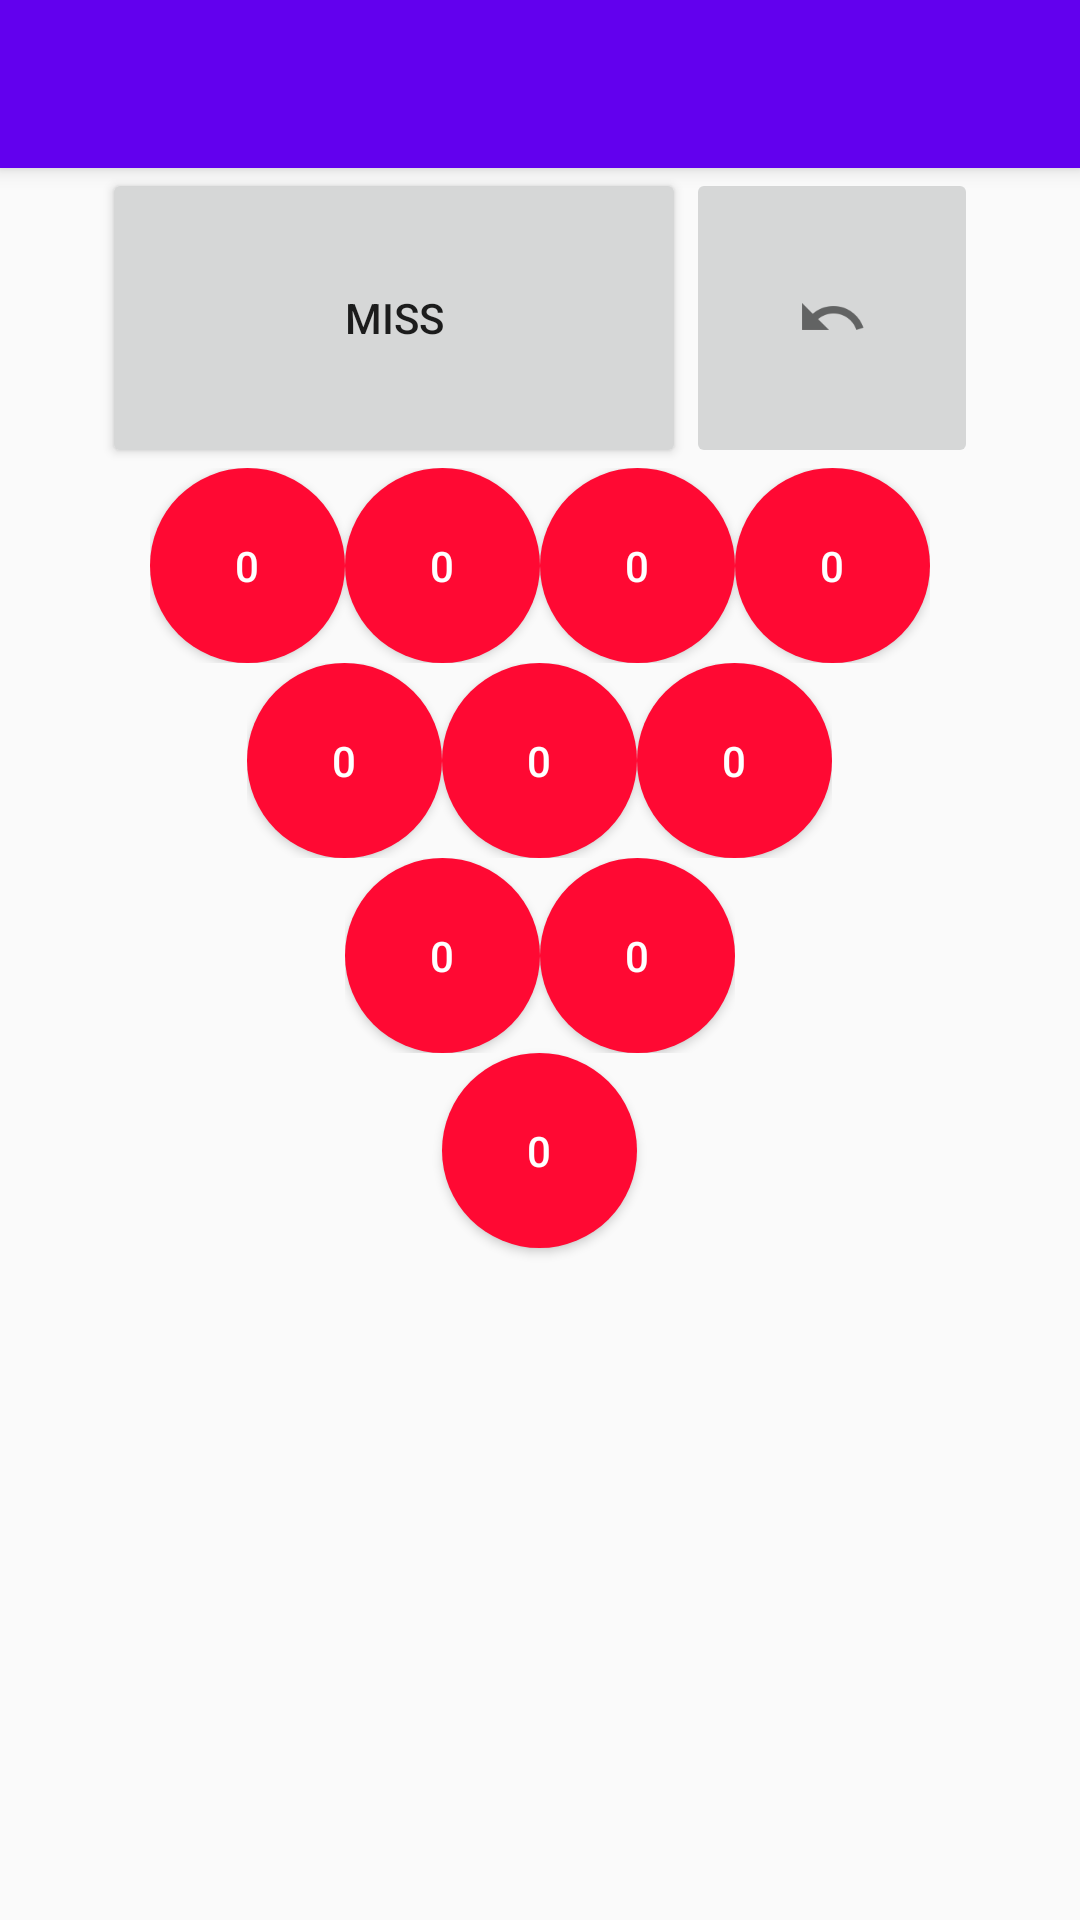

Screen size 1080 × 1920. Icon name, then its center in pixels as (x=x, y=y):
undo: (x=832, y=318)
